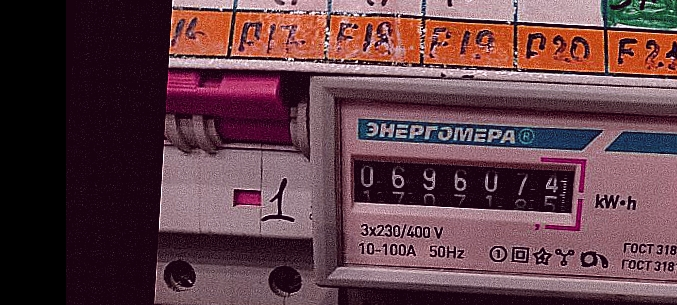0: (355, 161, 376, 187), (482, 166, 499, 193)
4: (543, 169, 560, 193)
5: (542, 192, 558, 211)
6: (388, 161, 409, 189), (450, 166, 468, 191)
7: (511, 169, 530, 196)
9: (418, 164, 438, 190)
screen: (335, 138, 591, 234)
